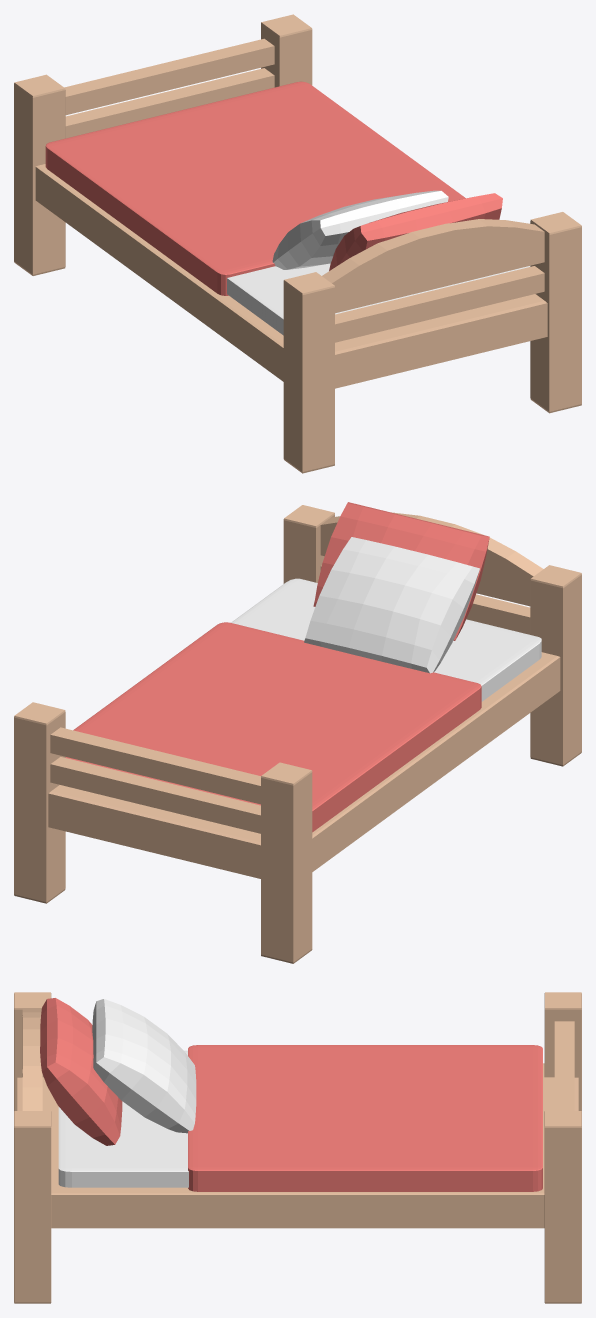
Rendered from Bed.fbx.
The picture shows the model from 3 angles, top to bottom: view 1: azimuth 30°, elevation 25°; view 2: azimuth 150°, elevation 25°; view 3: azimuth 270°, elevation 25°; orthographic projection.
Parts seen in each view (by area): view 1: Bed; view 2: Bed; view 3: Bed.
Boxes of the visible parts, box(x1,y1,x2,y2) form: Bed: box(14, 14, 581, 473); Bed: box(14, 502, 581, 963); Bed: box(14, 992, 581, 1303).
Bounding box in the file's own units: 255 × 187 × 456.
